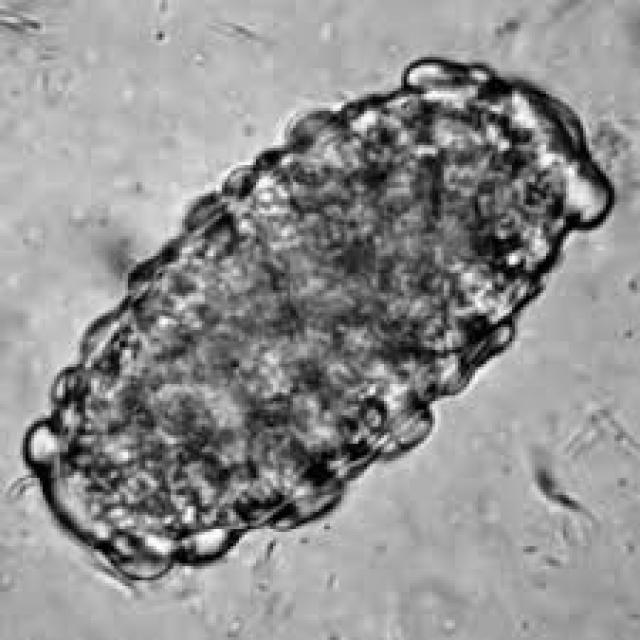Ascaris Lumbricoides: (11, 44, 620, 590)
